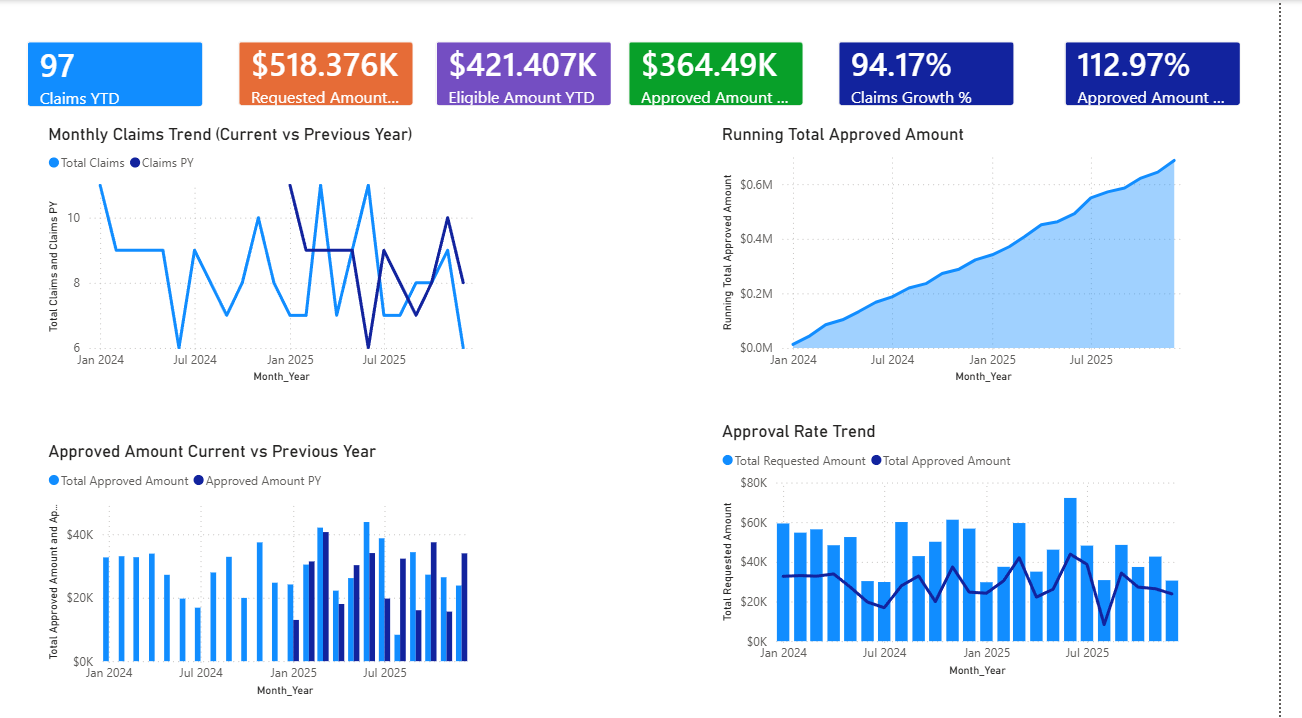

What the dashboard file says about the page in this screenshot:
{"tool":"powerbi","page":{"name":"Page 3","canvas":[1280,720],"ordinal":2},"visuals":[{"type":"cardVisual","fields":{"Data":["Measures Table.Claims YTD"]},"box":[17.8,24,210,100],"z":0},{"type":"cardVisual","fields":{"Data":["Measures Table.Requested Amount YTD"]},"box":[227.6,24.2,209.1,99.6],"z":1000},{"type":"cardVisual","fields":{"Data":["Measures Table.Eligible Amount YTD"]},"box":[423.8,24.2,210.5,99.6],"z":2000},{"type":"cardVisual","fields":{"Data":["Measures Table.Approved Amount YTD"]},"box":[615.8,24.2,209.1,99.6],"z":3000},{"type":"cardVisual","fields":{"Data":["Measures Table.Claims Growth %"]},"box":[824.9,24.2,210.5,99.6],"z":4000},{"type":"cardVisual","fields":{"Data":["Measures Table.Approved Amount Growth %"]},"box":[1049.6,24.2,210.5,99.6],"z":5000},{"type":"lineChart","title":"Monthly Claims Trend (Current vs Previous Year)","fields":{"Category":["Dim_Date.Month_Year"],"Y":["Measures Table.Total Claims","Measures Table.Claims PY"]},"box":[51.2,123.7,445.2,263.1],"z":5001},{"type":"areaChart","title":"Running Total Approved Amount","fields":{"Category":["Dim_Date.Month_Year"],"Y":["Measures Table.Running Total Approved Amount"]},"box":[721.1,123.7,482.1,263.1],"z":5002},{"type":"clusteredColumnChart","title":"Approved Amount Current vs Previous Year","fields":{"Category":["Dim_Date.Month_Year"],"Y":["Measures Table.Total Approved Amount","Measures Table.Approved Amount PY"]},"box":[51.2,439.5,445.2,258.8],"z":5003},{"type":"lineClusteredColumnComboChart","title":"Approval Rate Trend","fields":{"Category":["Dim_Date.Month_Year"],"Y":["Measures Table.Total Requested Amount"],"Y2":["Measures Table.Total Approved Amount"]},"box":[721.1,419.6,482.1,258.8],"z":5004}]}

Visuals, with their boxes in screenshot pixels (x1, y1, x2, y2), scaled from the page's 1280x720 canvas onto the 1302x718 screenshot:
cardVisual - Measures Table.Claims YTD: locate(18, 24, 232, 124)
cardVisual - Measures Table.Requested Amount YTD: locate(232, 24, 444, 123)
cardVisual - Measures Table.Eligible Amount YTD: locate(431, 24, 645, 123)
cardVisual - Measures Table.Approved Amount YTD: locate(626, 24, 839, 123)
cardVisual - Measures Table.Claims Growth %: locate(839, 24, 1053, 123)
cardVisual - Measures Table.Approved Amount Growth %: locate(1068, 24, 1282, 123)
"Monthly Claims Trend (Current vs Previous Year)" lineChart: locate(52, 123, 505, 386)
"Running Total Approved Amount" areaChart: locate(733, 123, 1224, 386)
"Approved Amount Current vs Previous Year" clusteredColumnChart: locate(52, 438, 505, 696)
"Approval Rate Trend" lineClusteredColumnComboChart: locate(733, 418, 1224, 677)
